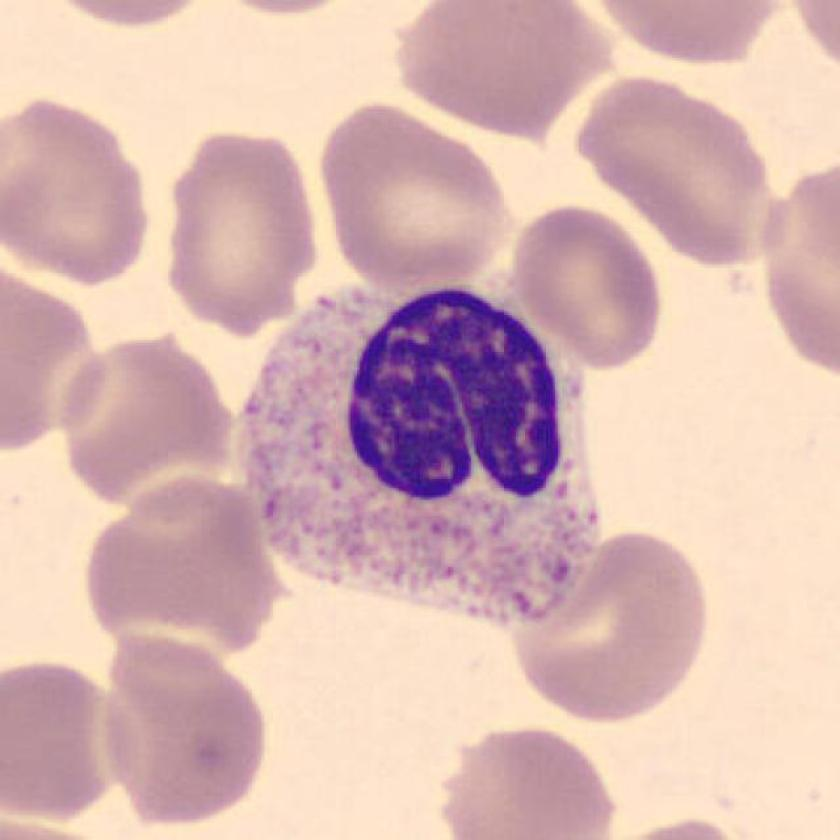neutrophil: (240, 289, 603, 627)
